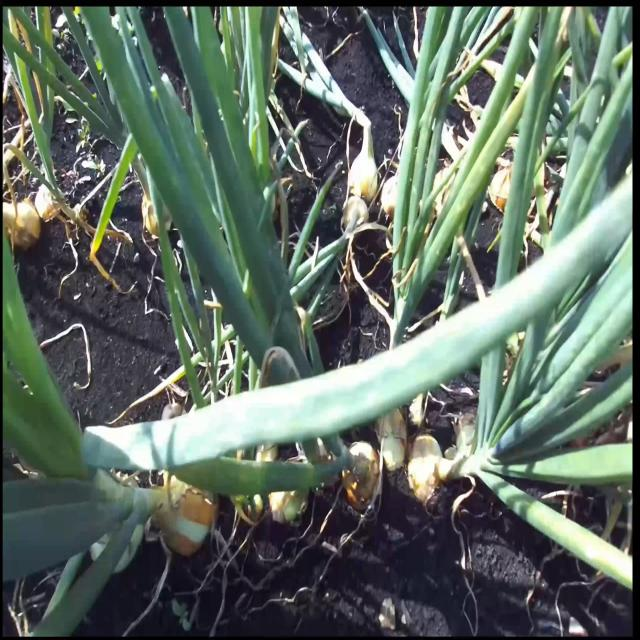onion: (152, 454, 213, 556), (341, 442, 378, 508), (408, 436, 442, 498), (379, 406, 409, 471), (350, 142, 377, 196), (9, 201, 39, 249), (341, 198, 367, 243)
